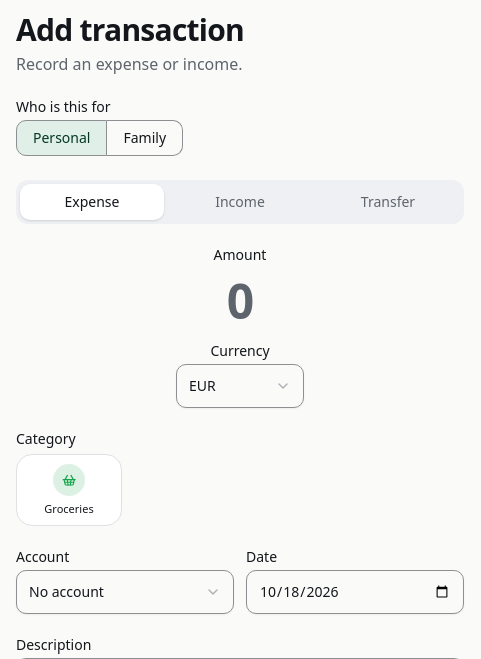
Test case: recording a transfer in the entry form (BR-37) › falls back to an expense when the chosen space has fewer than two accounts
This screenshot has width=481, height=659.
Click the radio button labelled "Transfer" at (388, 202), box top-left (316, 184), bottom-right (460, 220)
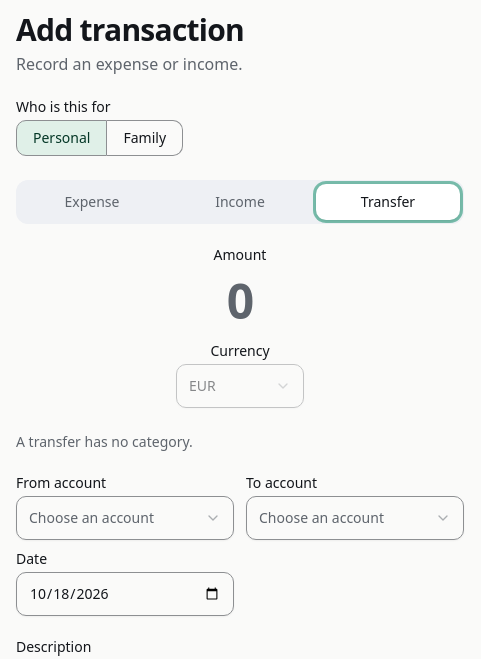
Click the radio button labelled "Family" at (145, 138), box top-left (108, 120), bottom-right (183, 156)
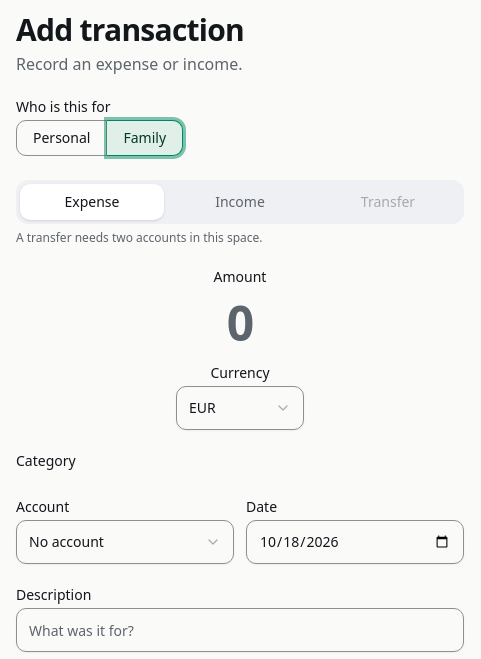
Expected: the radio button labelled "Expense" is checked, top-left (20, 184), bottom-right (164, 220)
Expected: the radio button labelled "Transfer" is disabled, top-left (316, 184), bottom-right (460, 220)
